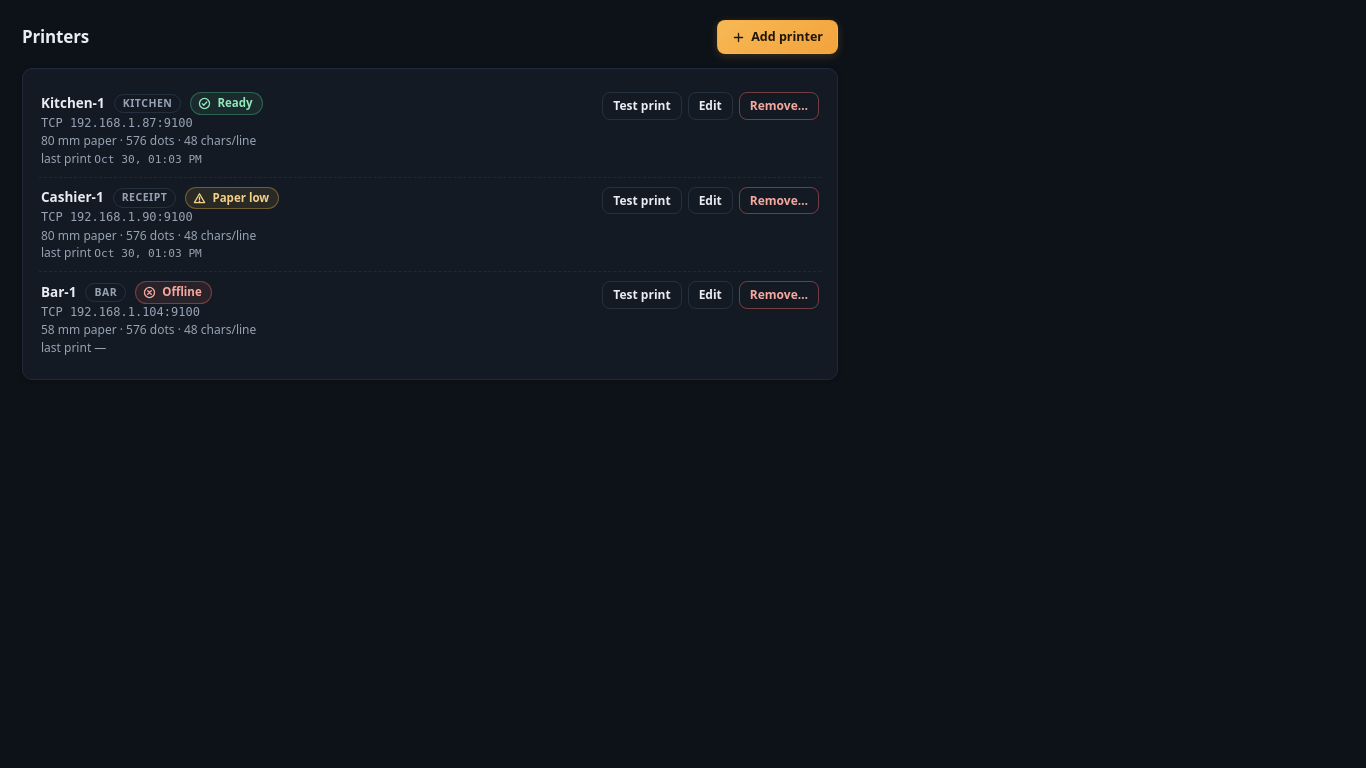
Test: PrintersScreen › prefills every field when editing an existing printer
The width and height of the screenshot is (1366, 768).
Click the button "Edit" in the row of "Kitchen-1".
click(710, 106)  # box [688, 92, 733, 120]
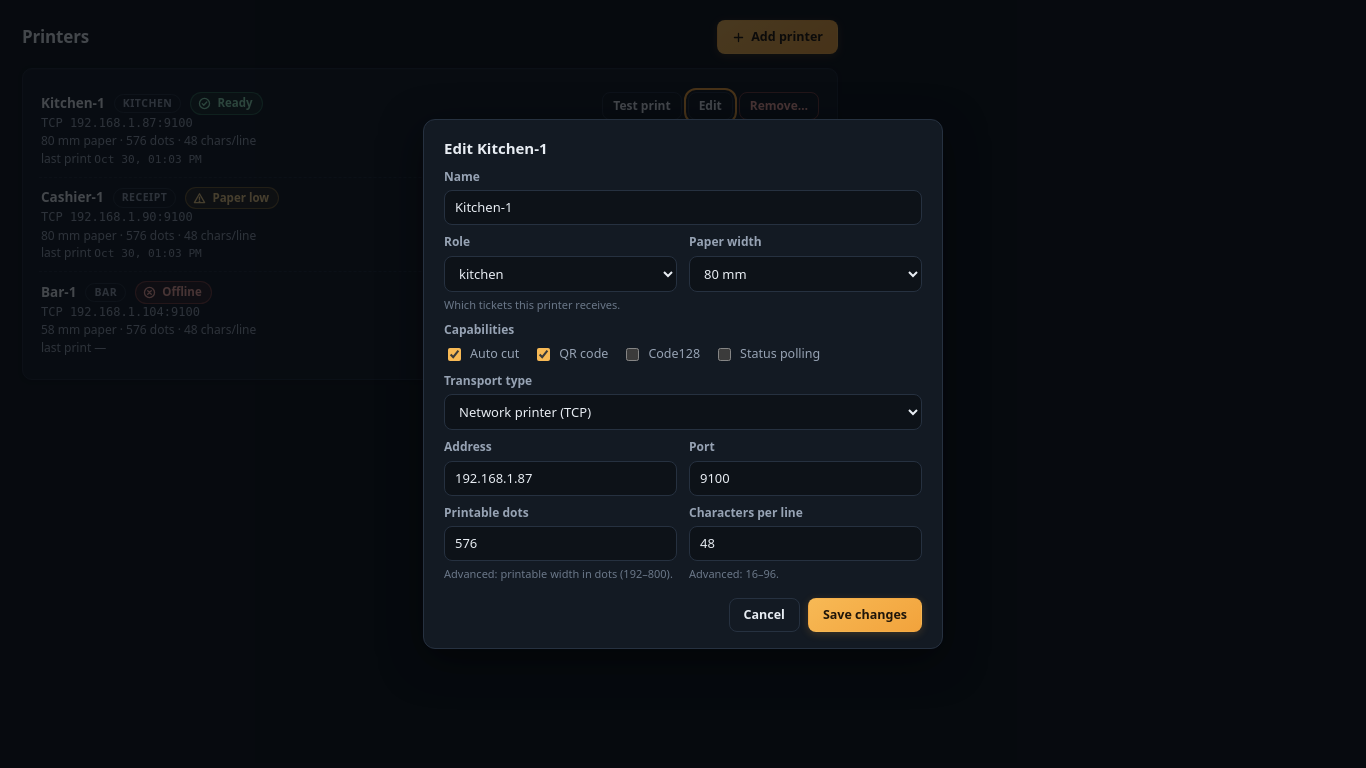
Now the field labelled "Name" holds "Kitchen-1", box [444, 190, 922, 225]
Now the dropdown showing "kitchen" is shown, box [444, 256, 677, 292]
Now the dropdown labelled "Paper width" shows "80 mm", box [689, 256, 922, 292]
